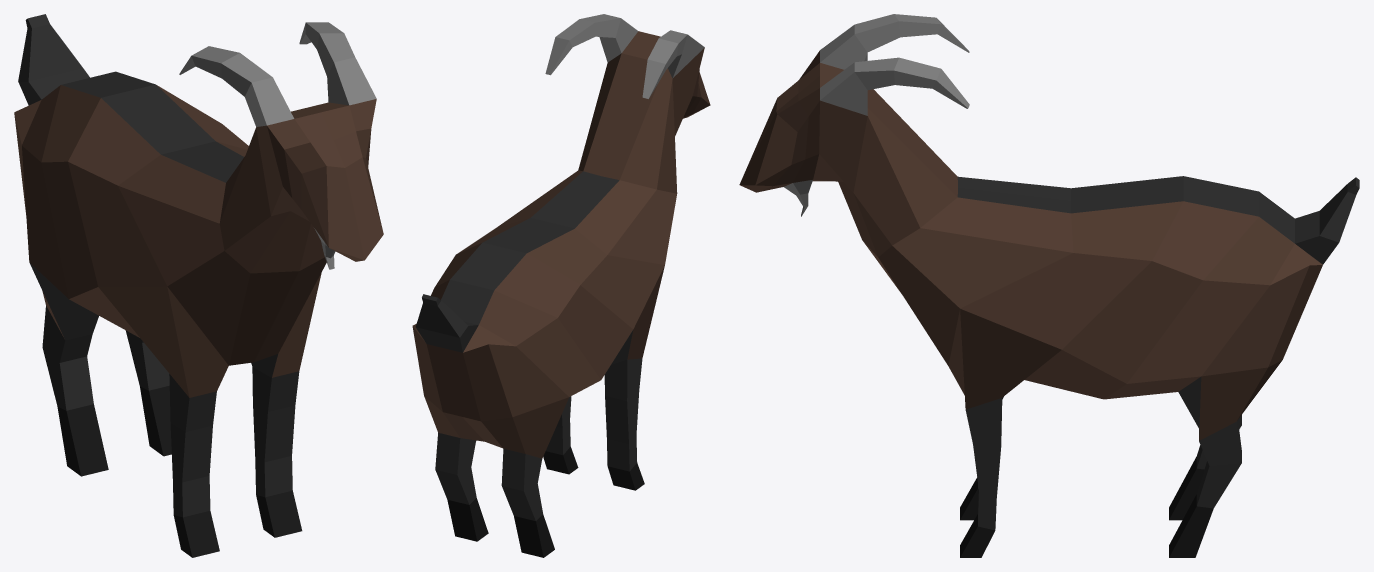
The model's file is Goatcoloranim.dae.
3 renders of one model, left to right at view 1: azimuth 30°, elevation 25°; view 2: azimuth 150°, elevation 25°; view 3: azimuth 270°, elevation 25°, orthographic. The views are drawn at different scales.
Visible parts, largest first — view 1: Plane; view 2: Plane; view 3: Plane.
Part boxes in pixels (bbox=[...]): Plane: bbox=[14, 14, 383, 557]; Plane: bbox=[412, 14, 710, 557]; Plane: bbox=[739, 14, 1359, 557].
Size of the model in its own units: 1.99 by 6 by 5.27.
